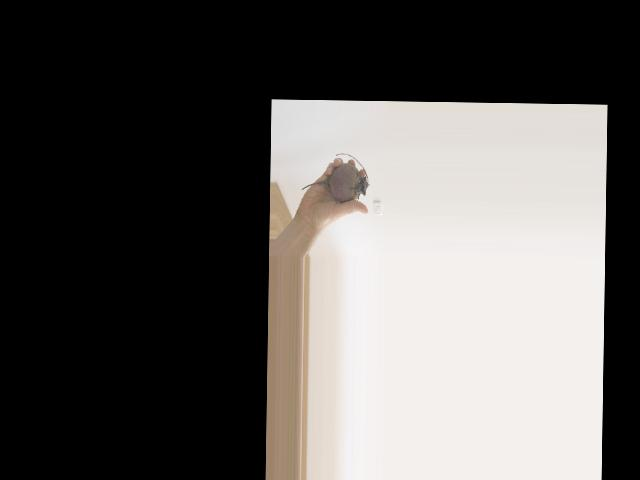beet: (300, 152, 369, 201)
